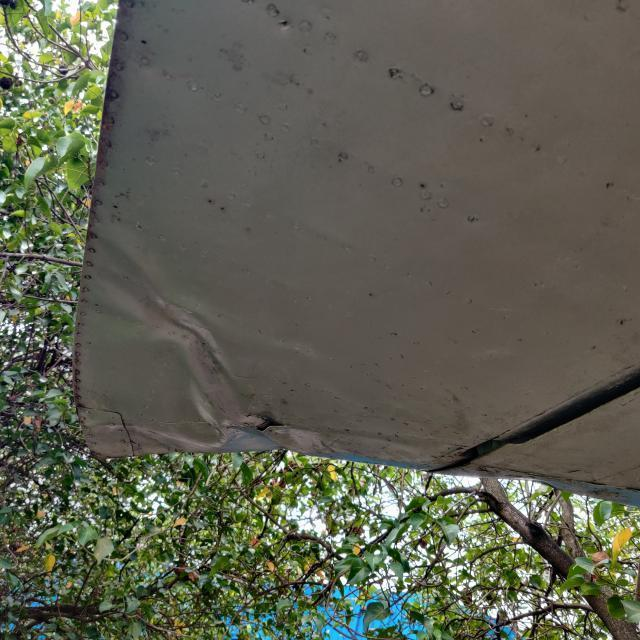Dent: (68, 220, 254, 420), (70, 388, 221, 481)
Rupture: (236, 405, 270, 428)
